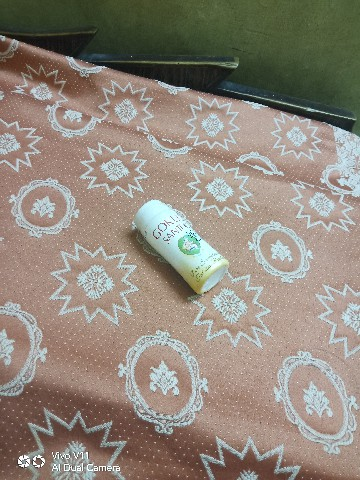gokulsantol small: (127, 192, 247, 300)
